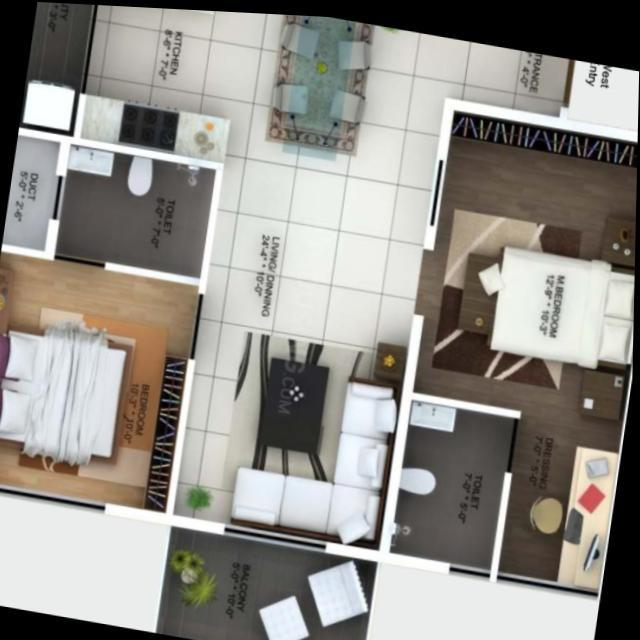Balcony-Sitout: (157, 518, 380, 640)
Bedroom: (0, 248, 201, 518)
Bedroom with Toilet: (385, 96, 638, 588)
Dining: (259, 11, 381, 157)
Dress: (500, 410, 621, 591)
Enterance-Foyer: (447, 33, 603, 114)
Kitchen: (73, 4, 242, 162)
Living: (173, 259, 416, 562)
Toilet: (50, 138, 220, 279), (385, 392, 518, 569)
Utility: (19, 2, 94, 135)
